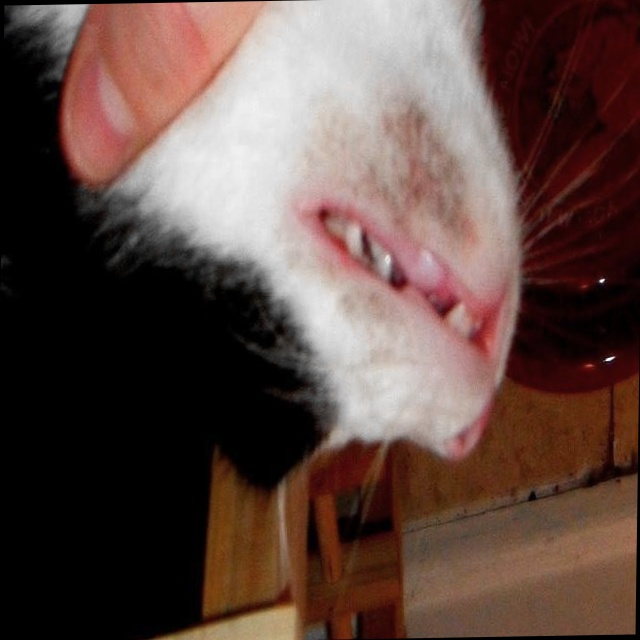acne: (355, 100, 483, 255)
